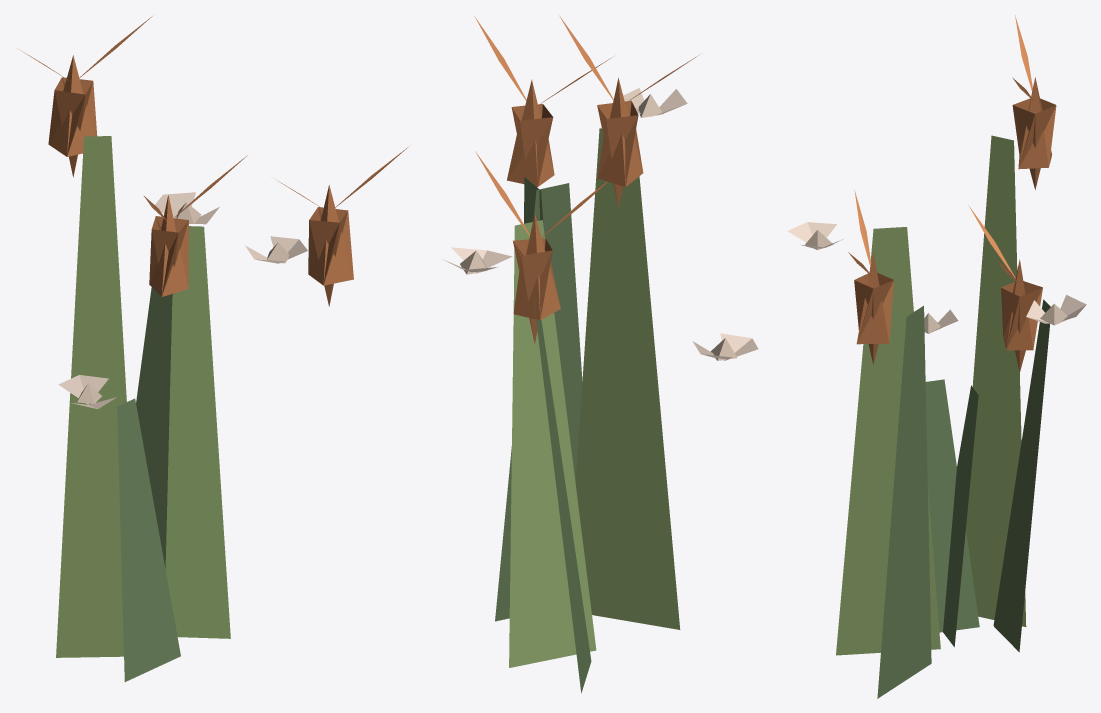
Rendered from nong.mai__summer.glb.
3 views of the same model, side by side, from view 1: azimuth 30°, elevation 25°; view 2: azimuth 150°, elevation 25°; view 3: azimuth 270°, elevation 25° (orthographic). The views are drawn at different scales.
Parts seen in each view (by area): view 1: nong.mai__summer; view 2: nong.mai__summer; view 3: nong.mai__summer.
Boxes of the visible parts, left/top/right/bottom form: nong.mai__summer: left=19, top=14, right=409, bottom=681; nong.mai__summer: left=442, top=15, right=758, bottom=693; nong.mai__summer: left=787, top=15, right=1086, bottom=698.
Size of the model in its own units: 0.5635 by 1.09 by 0.5144.
